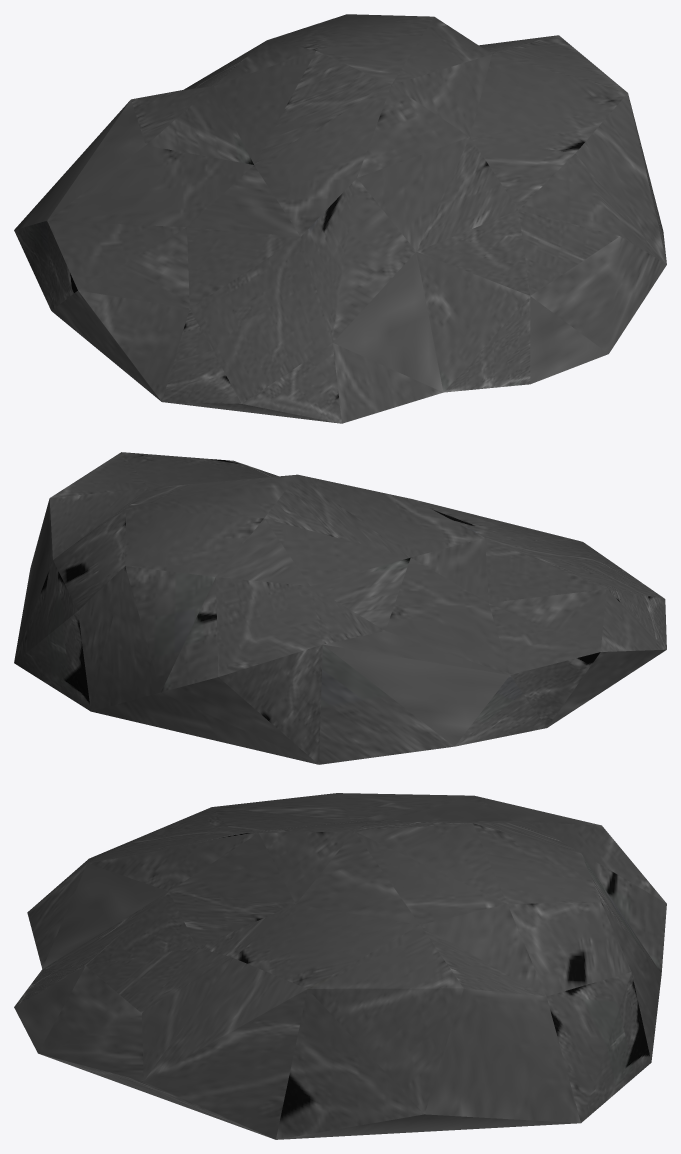
Rendered from co_slate_outcrop_lod2.glb.
The picture shows the model from 3 angles, top to bottom: view 1: azimuth 30°, elevation 25°; view 2: azimuth 150°, elevation 25°; view 3: azimuth 270°, elevation 25°; orthographic projection. The views are drawn at different scales.
Parts seen in each view (by area): view 1: output_unwrapped; view 2: output_unwrapped; view 3: output_unwrapped.
Part boxes in pixels (bbox=[...]): output_unwrapped: bbox=[14, 14, 666, 423]; output_unwrapped: bbox=[14, 452, 666, 764]; output_unwrapped: bbox=[14, 793, 666, 1139].
Size of the model in its own units: 1.72 by 0.4996 by 1.58.
1 material, 1 textured.
